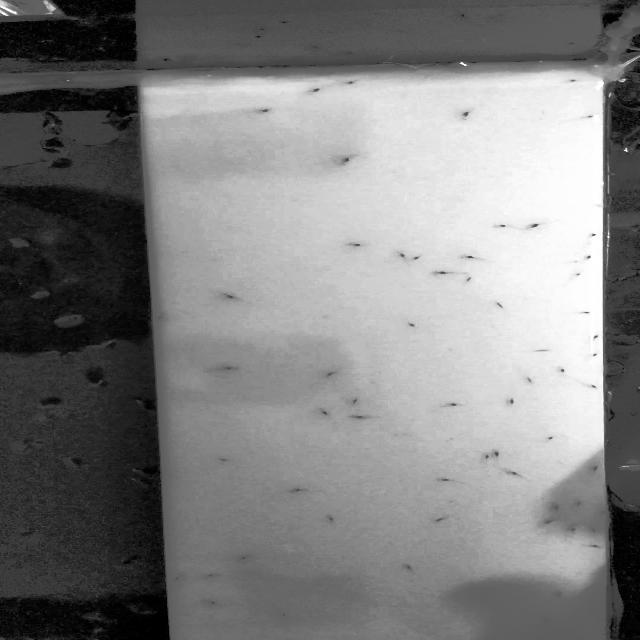shrimp: (212, 290, 249, 304), (552, 275, 588, 289), (493, 218, 524, 234), (431, 269, 478, 278), (519, 220, 549, 234), (578, 247, 599, 266), (402, 246, 428, 261), (401, 562, 428, 574), (582, 229, 608, 241), (345, 414, 381, 422), (433, 512, 455, 524), (317, 369, 349, 377), (578, 110, 599, 122), (343, 396, 368, 406), (202, 598, 227, 608), (253, 105, 277, 115), (490, 300, 510, 312), (338, 156, 367, 164), (506, 469, 526, 480), (391, 248, 412, 258), (557, 263, 583, 271), (216, 364, 242, 372), (555, 363, 578, 372), (349, 240, 374, 248), (317, 409, 341, 417), (402, 321, 426, 329), (171, 572, 190, 582), (550, 588, 569, 598), (574, 308, 597, 316), (460, 255, 486, 262), (521, 375, 541, 384), (454, 110, 476, 118), (439, 402, 468, 408), (466, 275, 483, 285), (336, 78, 364, 84), (286, 487, 310, 494), (566, 527, 580, 539), (150, 315, 168, 324), (580, 380, 598, 389), (530, 345, 553, 352), (542, 614, 555, 626), (589, 461, 603, 472), (307, 86, 324, 95), (278, 610, 293, 620), (438, 477, 468, 482), (492, 452, 502, 466), (545, 501, 559, 511), (542, 434, 556, 444), (552, 80, 586, 84), (542, 518, 559, 526), (502, 397, 521, 404), (584, 545, 606, 551), (212, 456, 230, 463), (588, 331, 600, 341), (572, 498, 585, 507), (236, 555, 250, 562), (598, 506, 607, 516), (586, 526, 597, 534), (588, 353, 602, 359), (327, 515, 337, 522), (205, 574, 221, 578), (484, 453, 491, 462)
